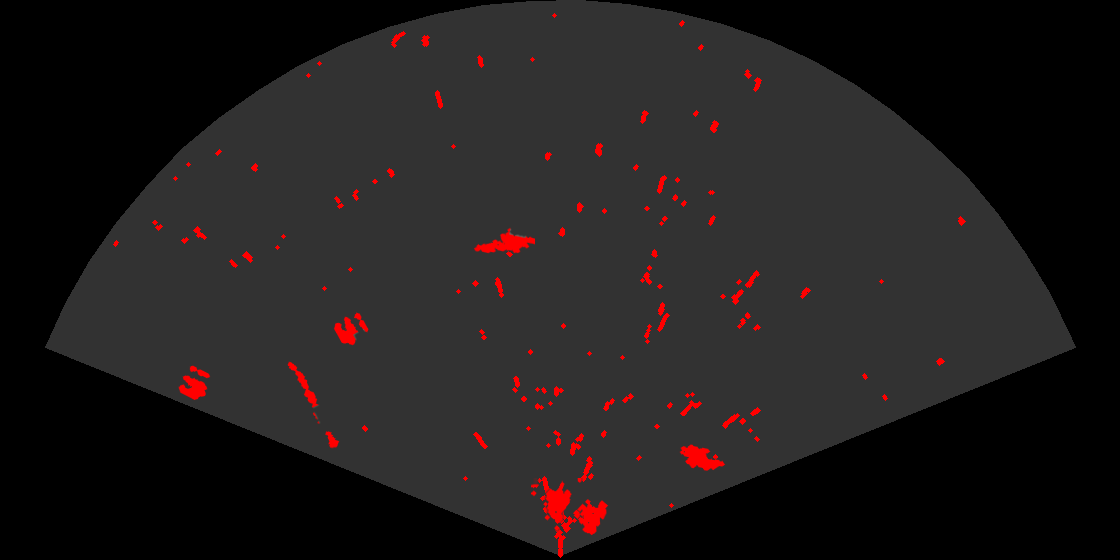AUV: (678, 443, 727, 472)
ball: (332, 311, 370, 347), (177, 364, 212, 402)
cage: (531, 478, 610, 537)
chain: (286, 360, 341, 450)
frogman: (472, 226, 535, 255)
